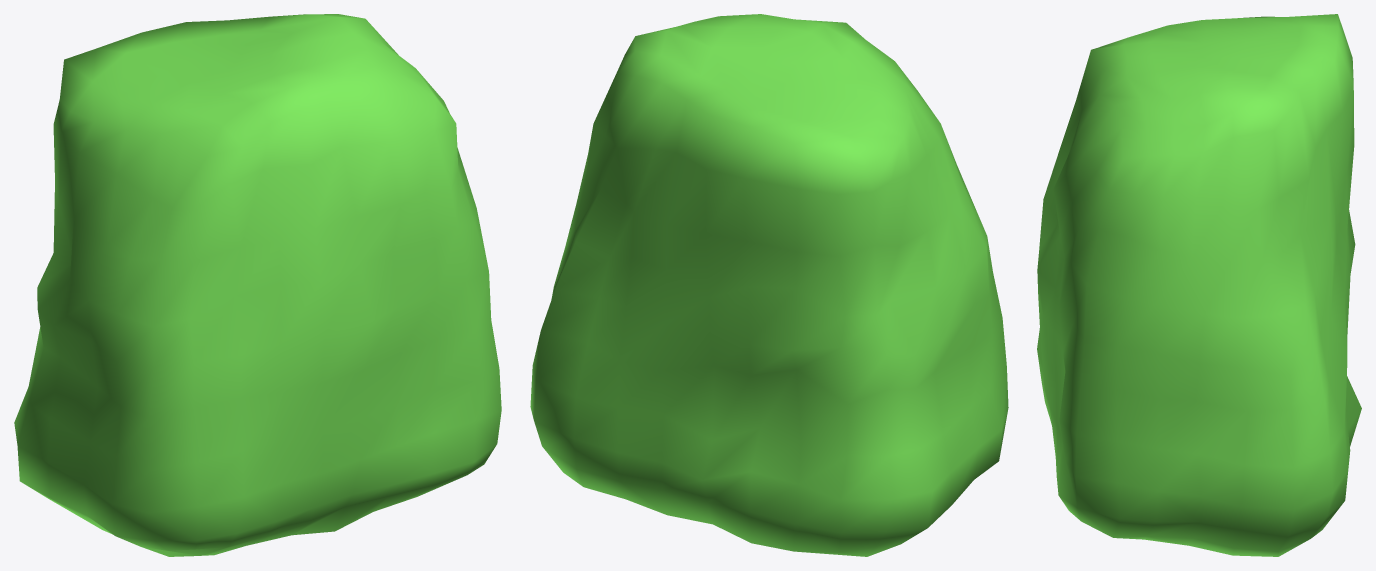
File: Rock_4.fbx
3 renders of one model, left to right at view 1: azimuth 30°, elevation 25°; view 2: azimuth 150°, elevation 25°; view 3: azimuth 270°, elevation 25°, orthographic. The views are drawn at different scales.
Visible parts, largest first — view 1: Rock_4_LOD0; view 2: Rock_4_LOD0; view 3: Rock_4_LOD0.
Boxes of the visible parts, <box> form: Rock_4_LOD0: <box>14,14,501,556</box>; Rock_4_LOD0: <box>530,14,1008,556</box>; Rock_4_LOD0: <box>1037,14,1361,556</box>.
Size of what is drawn, in the model's own units: 3389 by 3897 by 2437.
